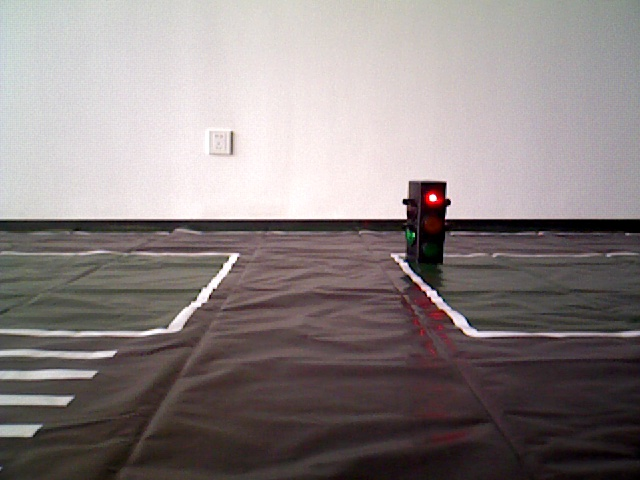red: (405, 181, 444, 264)
